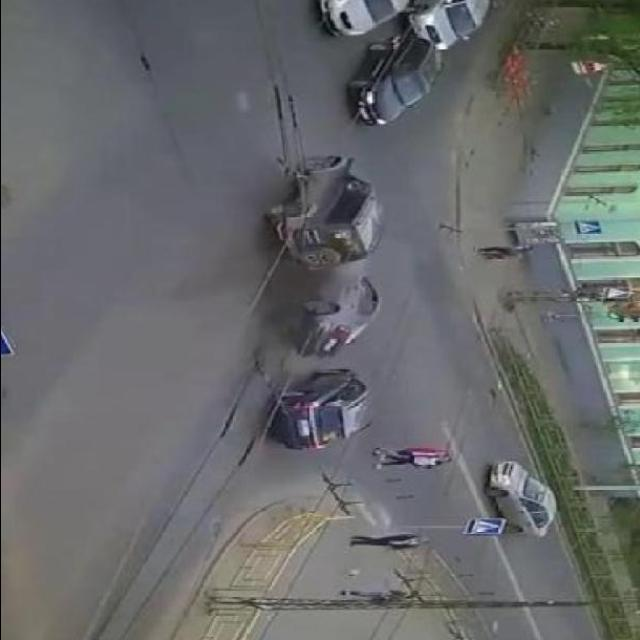accident: (289, 228, 375, 339)
